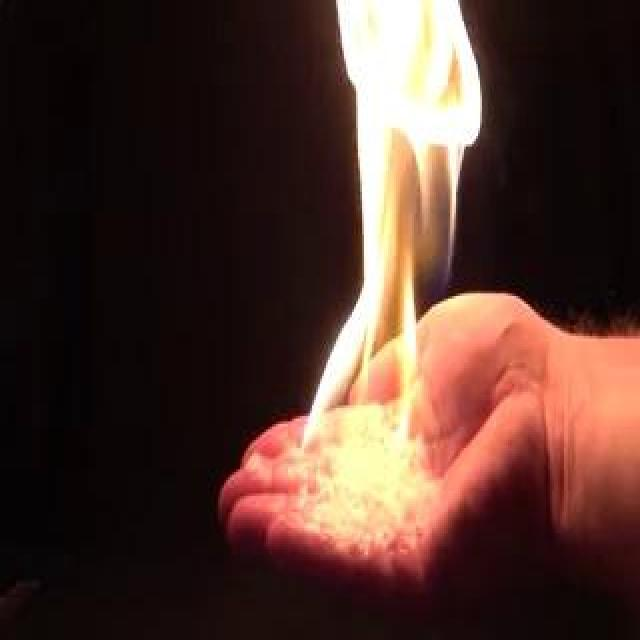Fire: (304, 3, 482, 485)
